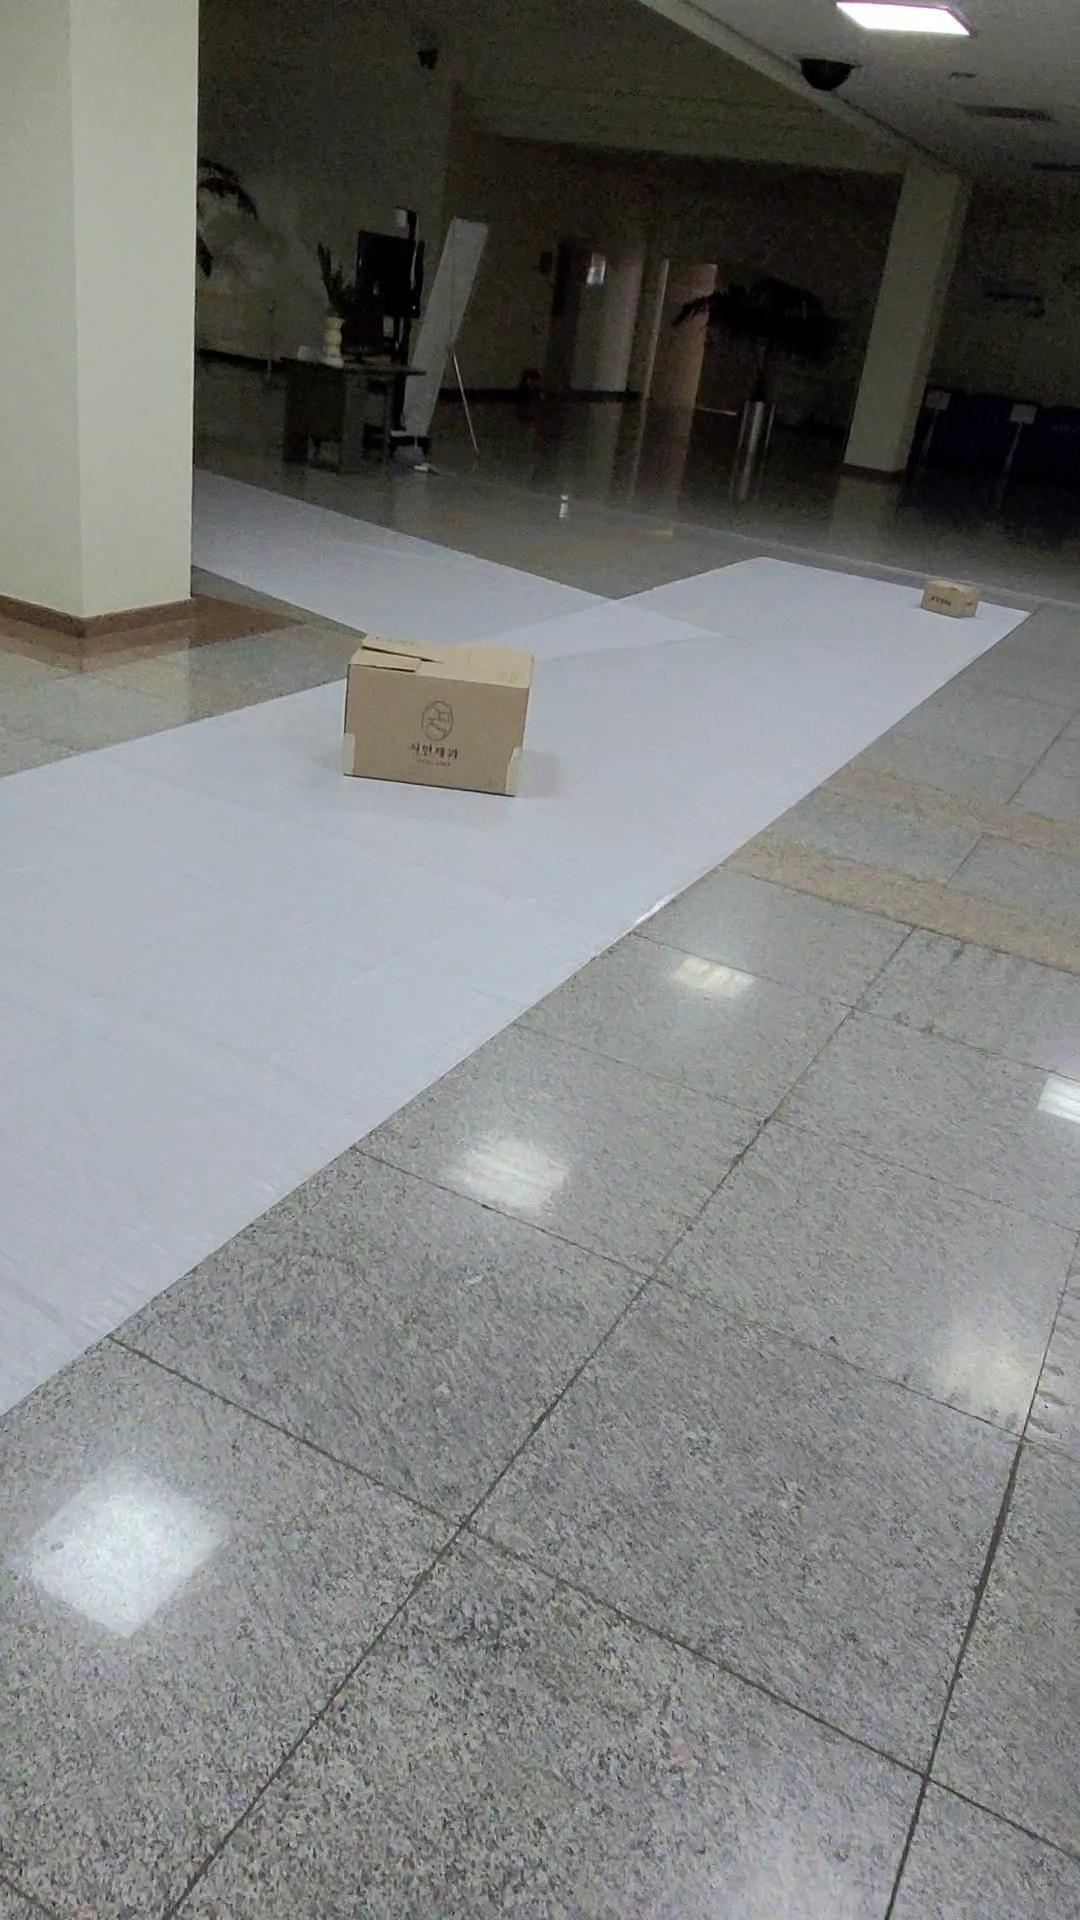Box: (334, 603, 553, 818), (893, 558, 1000, 638)
